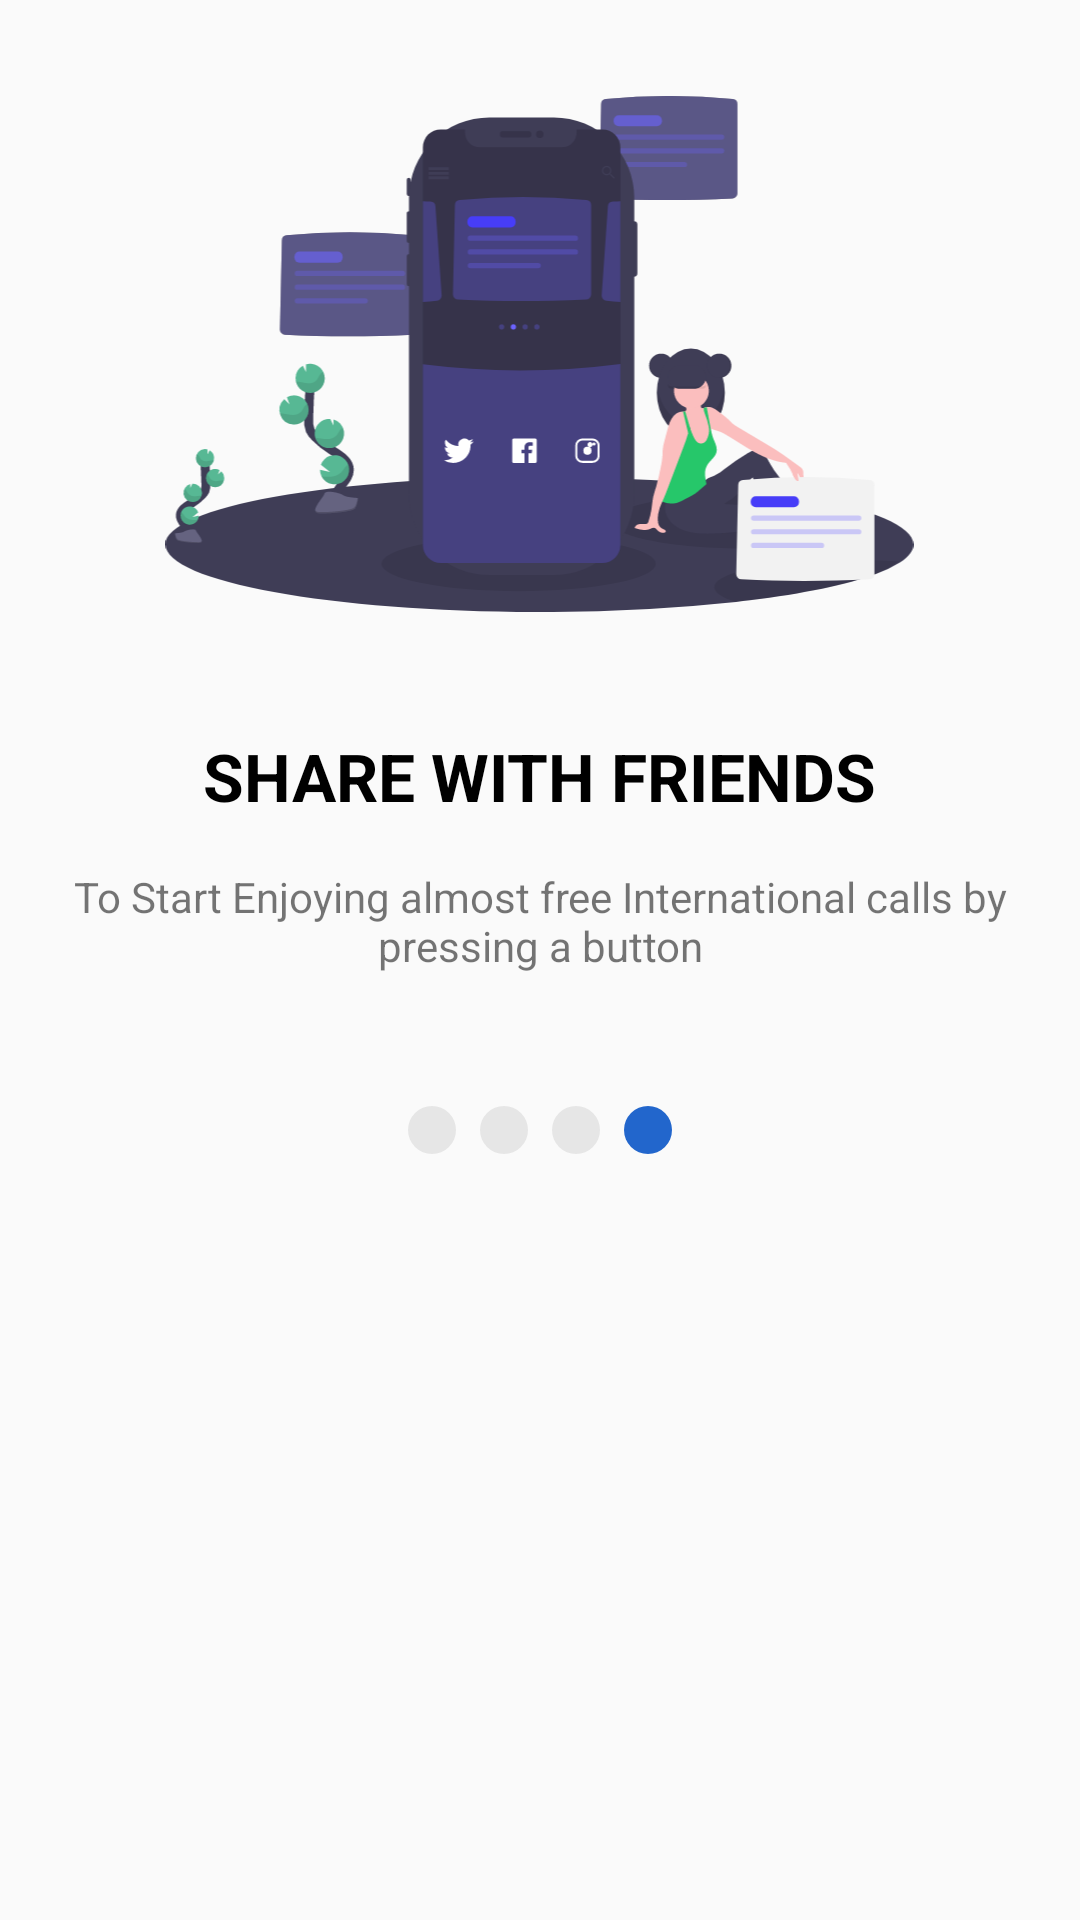

Named icons in this screenshot (1080 x 1920) and their bounding boxes, (x1, y1, x2, y2):
fiber manual record: (624, 1106, 672, 1154)
